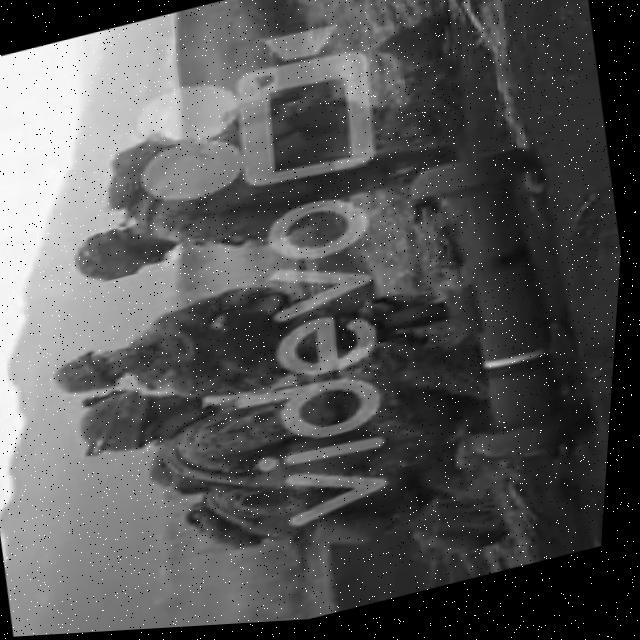rocket: (377, 135, 631, 485)
